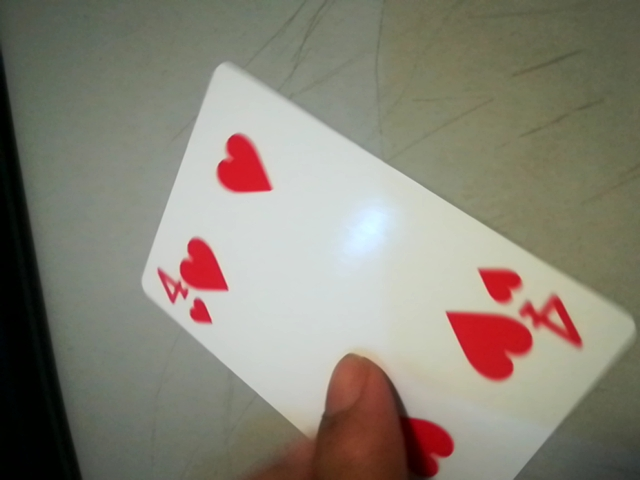hx 4: (474, 261, 599, 365)
